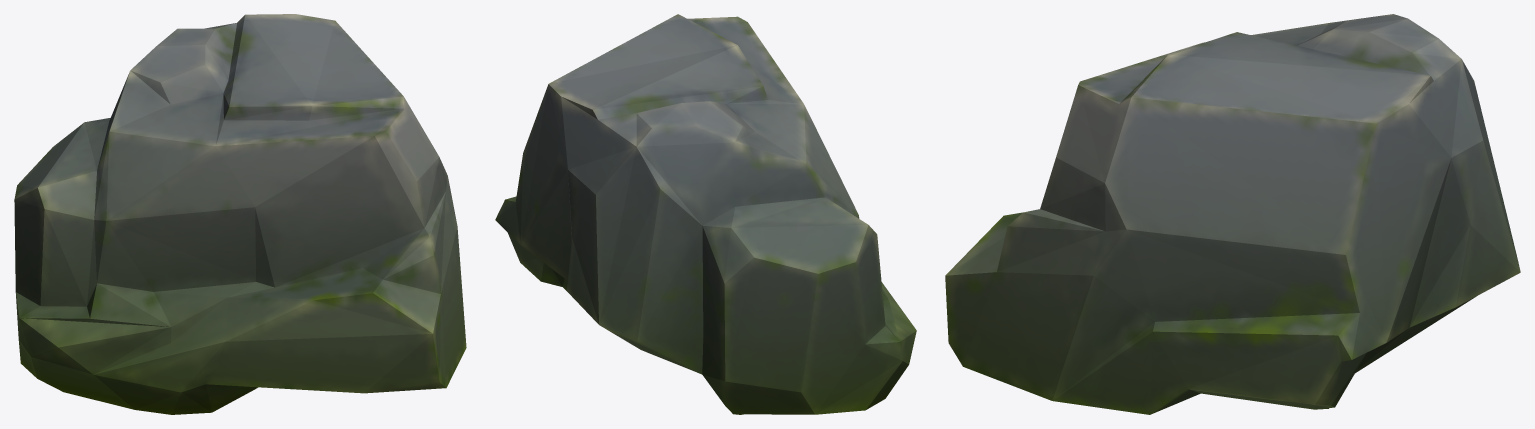
Rendered from Rock_Medium_3.gltf.
3 views of the same model, side by side, from view 1: azimuth 30°, elevation 25°; view 2: azimuth 150°, elevation 25°; view 3: azimuth 270°, elevation 25° (orthographic). The views are drawn at different scales.
Visible parts, largest first — view 1: Rock_Medium_3; view 2: Rock_Medium_3; view 3: Rock_Medium_3.
Part boxes in pixels (left/top/right/bottom): Rock_Medium_3: left=14, top=14, right=466, bottom=414; Rock_Medium_3: left=495, top=14, right=916, bottom=414; Rock_Medium_3: left=945, top=14, right=1520, bottom=414.
Size of the model in its own units: 3.42 by 2.32 by 3.46.
Materials: 1 (1 with a texture image).
